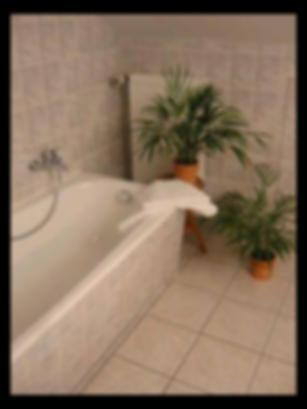Matera: (131, 62, 253, 181), (204, 161, 296, 285)
